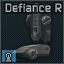KRISS Defiance low profile flip up rearsight: (0, 0, 64, 64)
